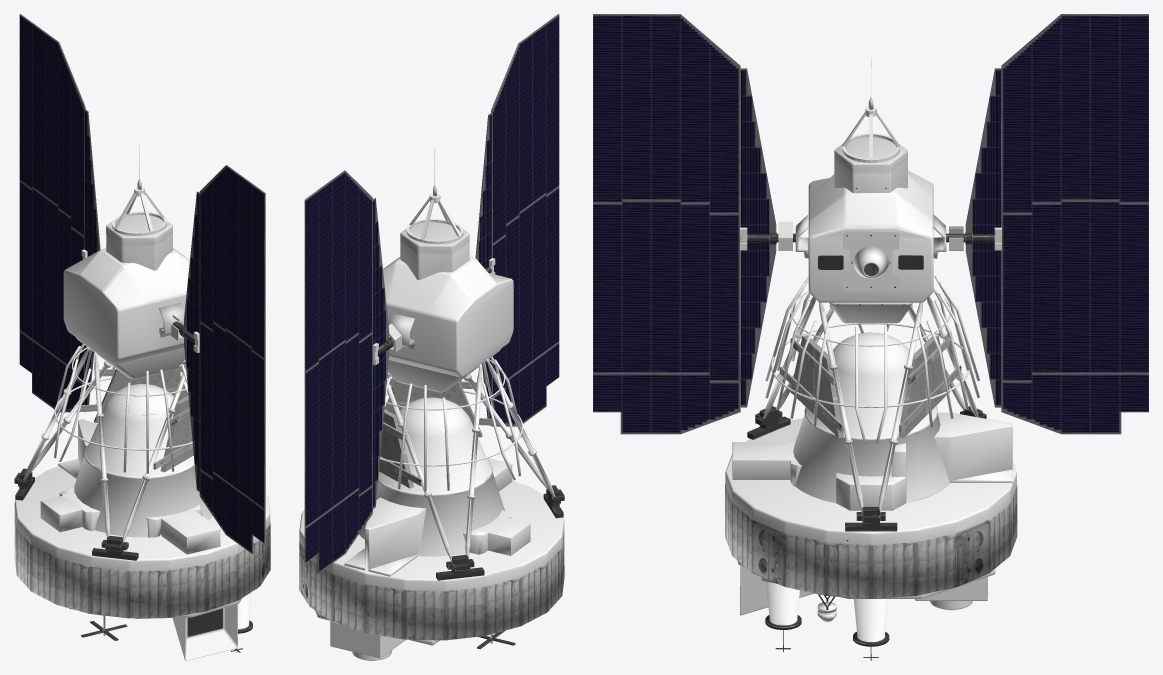
File: landsat123.glb
3 views of the same model, side by side, from view 1: azimuth 30°, elevation 25°; view 2: azimuth 150°, elevation 25°; view 3: azimuth 270°, elevation 25° (orthographic). The views are drawn at different scales.
Visible parts, largest first — view 1: L1_Baked; view 2: L1_Baked; view 3: L1_Baked.
Part boxes in pixels (box(x1,y1,x2,y2)): L1_Baked: box(14, 14, 270, 660); L1_Baked: box(299, 14, 564, 660); L1_Baked: box(593, 14, 1148, 660).
Size of the model in its own units: 2.02 by 4.58 by 3.81.
Materials: 1 (1 with a texture image).
